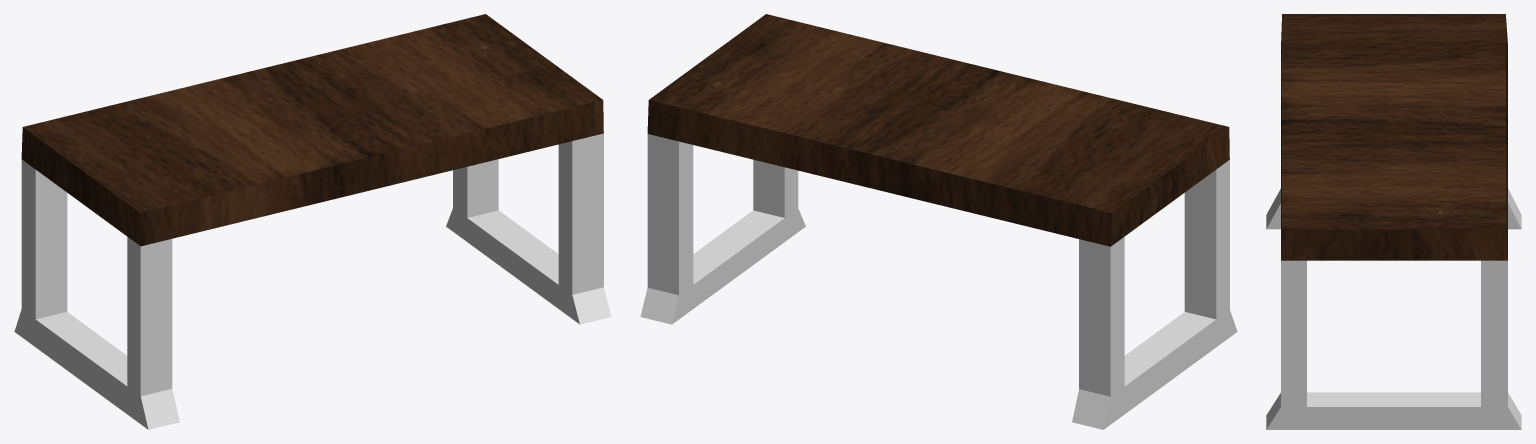
Rendered from officeDesk.glb.
3 renders of one model, left to right at view 1: azimuth 30°, elevation 25°; view 2: azimuth 150°, elevation 25°; view 3: azimuth 270°, elevation 25°, orthographic. The views are drawn at different scales.
Parts seen in each view (by area): view 1: Cube; view 2: Cube; view 3: Cube.
Boxes of the visible parts, bbox=[...] form: Cube: bbox=[14, 14, 611, 429]; Cube: bbox=[640, 14, 1237, 429]; Cube: bbox=[1266, 14, 1521, 429].
Size of the model in its own units: 7.93 by 3.45 by 3.98.
Materials: 2 (1 with a texture image).
